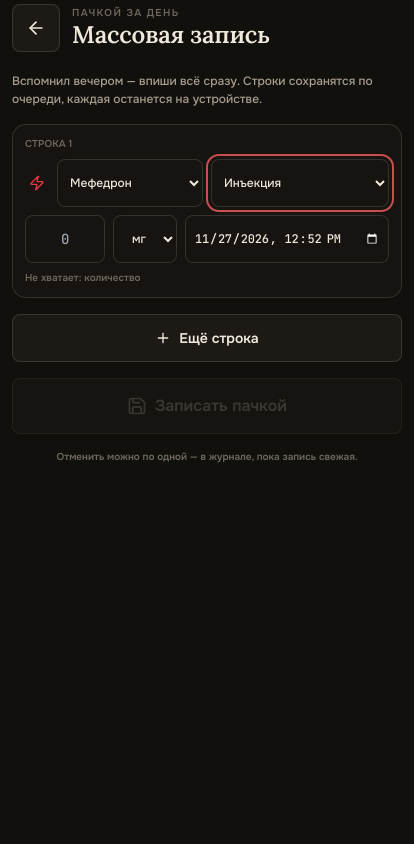
Test: BulkAdd › keeps going and lists what failed
The width and height of the screenshot is (414, 844).
Earlier steps of the test are not shown.
In the field named "Количество": (65, 239) top-left (25, 215), bottom-right (105, 263), type "1"
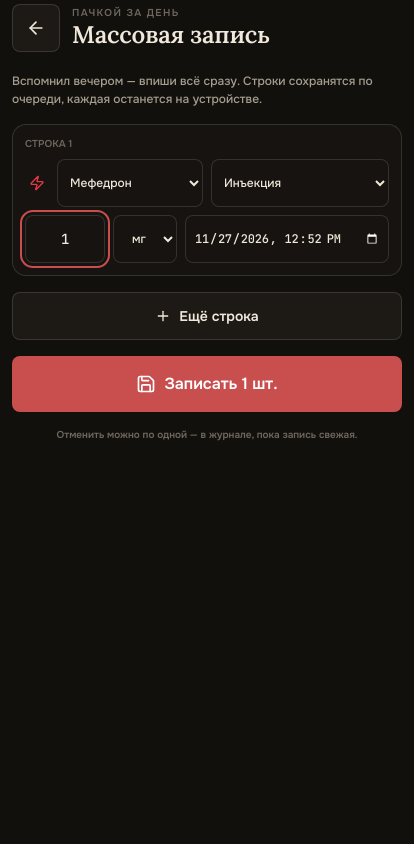
Click the button "Ещё строка": click(207, 316) top-left (12, 292), bottom-right (402, 340)
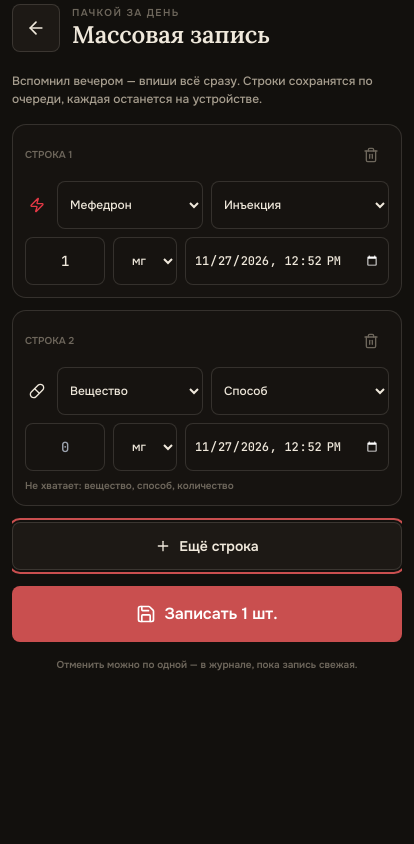
Select "Марихуана" in the 4th dropdown: (130, 391) top-left (57, 367), bottom-right (203, 415)
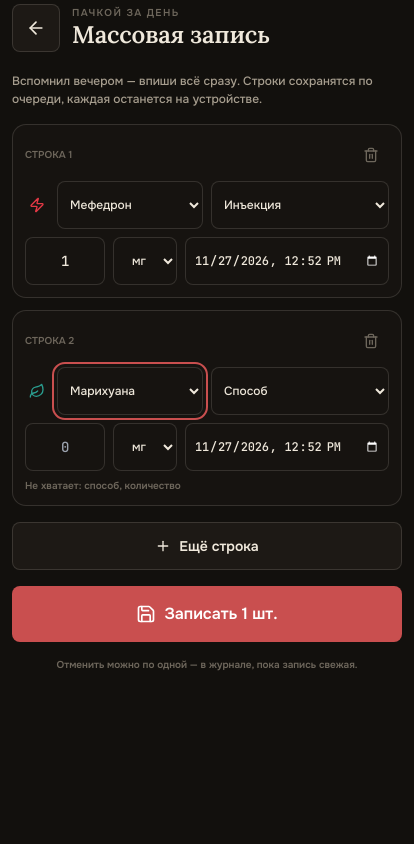
Select "Курение" in the 5th dropdown: (300, 391) top-left (211, 367), bottom-right (389, 415)
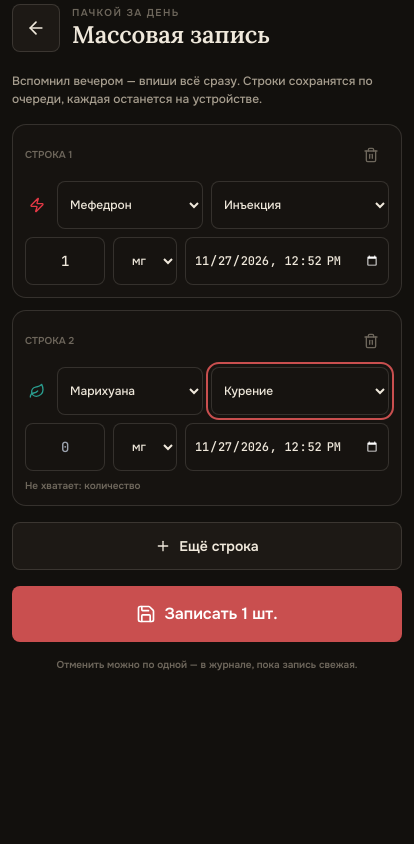
In the field named "Количество": (65, 447) top-left (25, 423), bottom-right (105, 471), type "0.2"
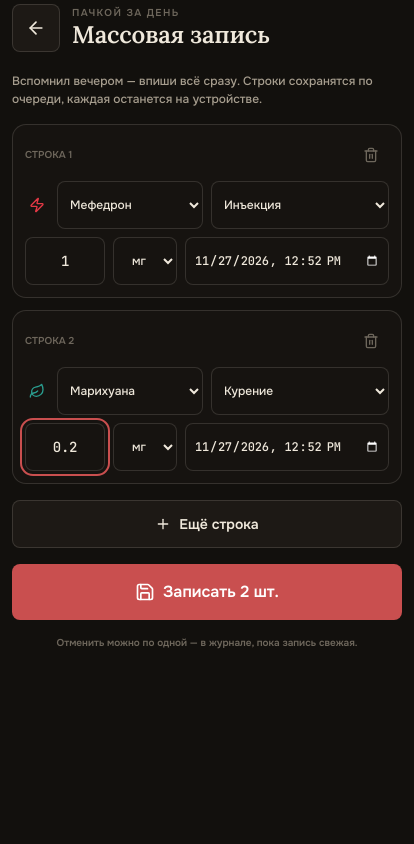
Click the button "Записать 2 шт.": click(207, 592) top-left (12, 564), bottom-right (402, 620)
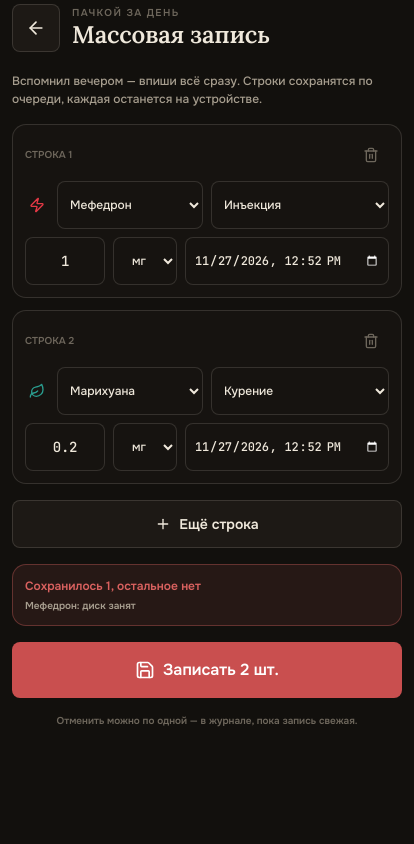
Expected: the text "Сохранилось 1, остальное нет" is shown, top-left (25, 578), bottom-right (201, 594)
Expected: the list item "Мефедрон: диск занят" is shown, top-left (25, 599), bottom-right (136, 612)
